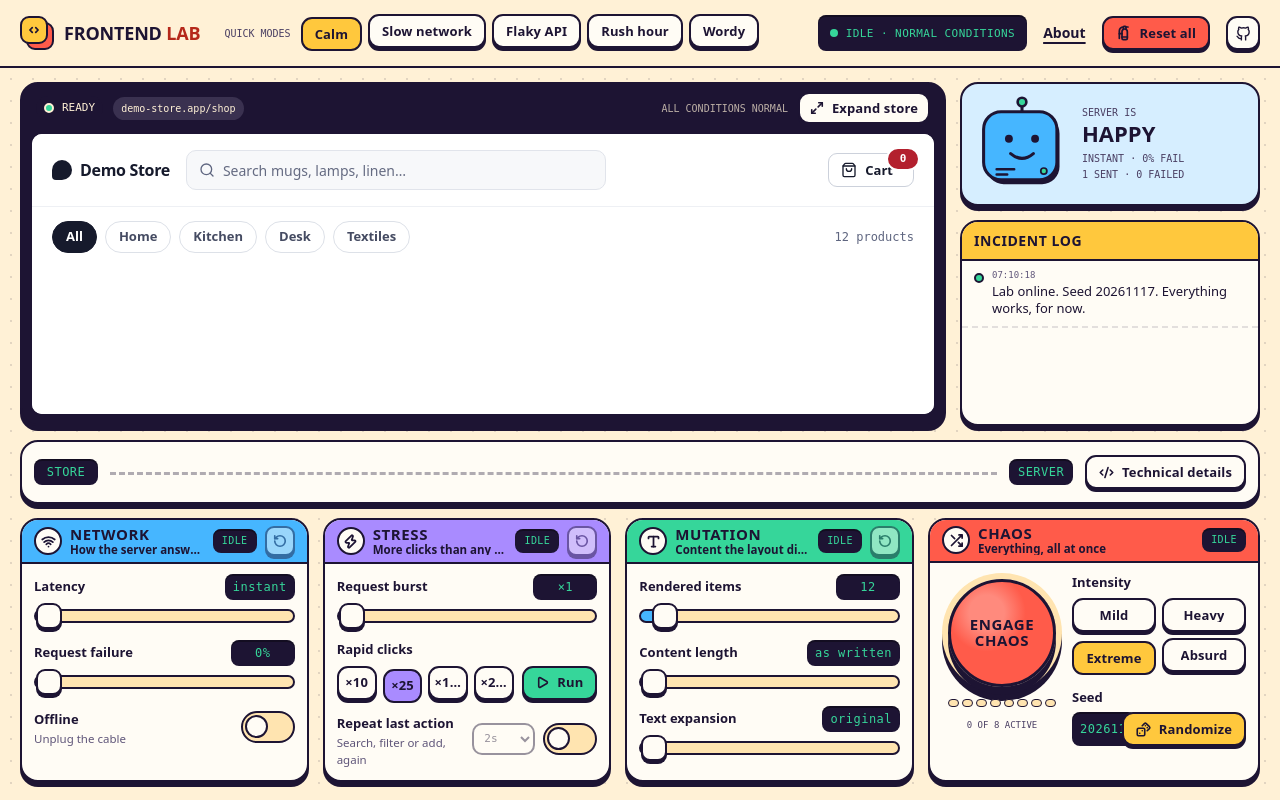
it: Playground › opens technical details and closes them with Escape
The width and height of the screenshot is (1280, 800).
Later steps or results of the test are not shown.
Click the button "Technical details": (1166, 472) x1=1085 y1=455 x2=1246 y2=489
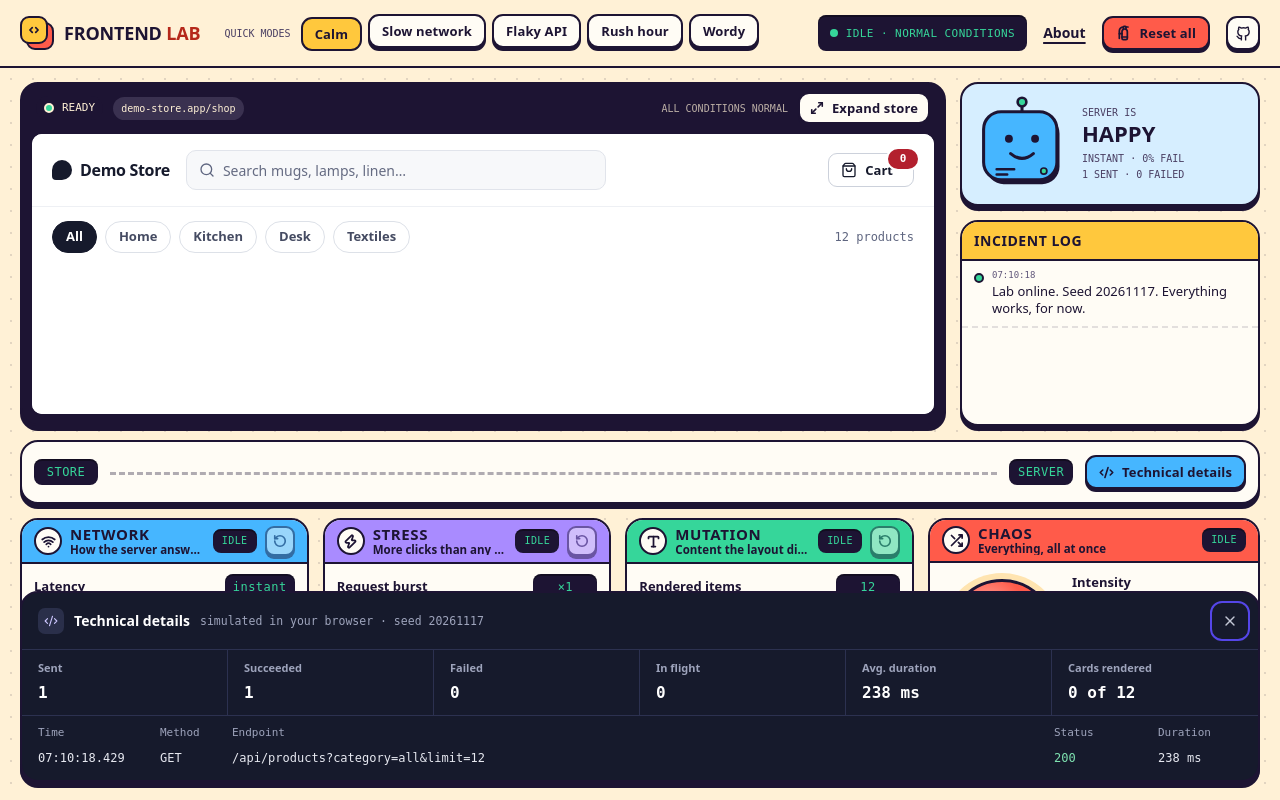
Expected: the table named "Request log" is shown, x1=22 y1=716 x2=1258 y2=780
Expected: the text "/api/products?category=all&limit=12" is shown, x1=232 y1=751 x2=485 y2=765
